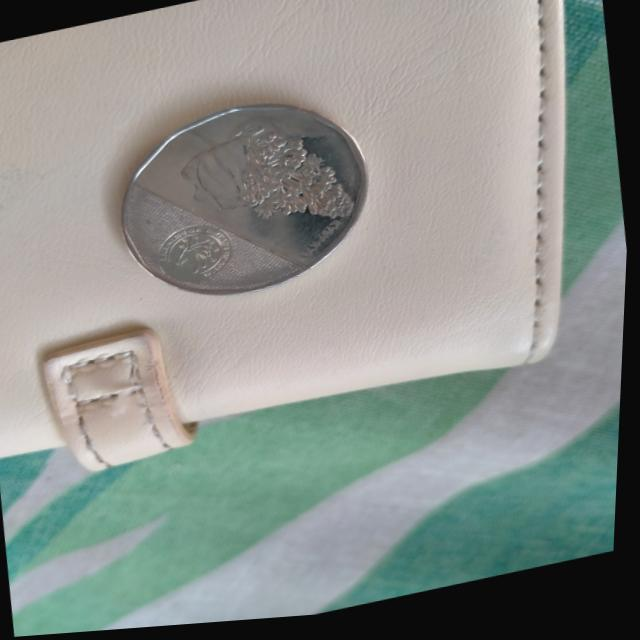10_New_Back: (166, 82, 380, 276)
